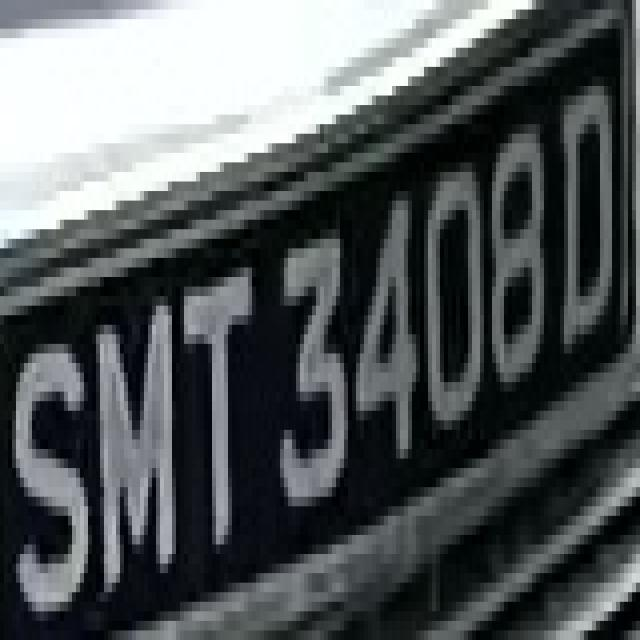0: (412, 172, 488, 449)
3: (268, 210, 352, 526)
4: (332, 182, 424, 496)
8: (476, 105, 552, 420)
D: (552, 86, 624, 363)
M: (84, 258, 184, 592)
S: (20, 296, 92, 611)
T: (168, 258, 260, 592)
